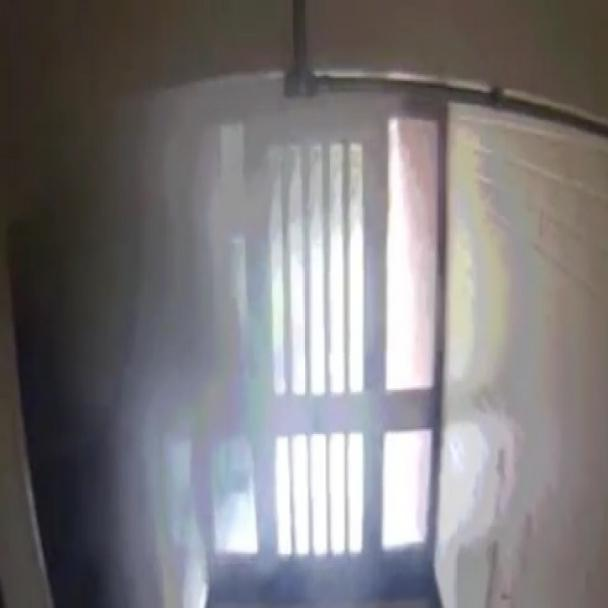smoke: (42, 1, 413, 607)
